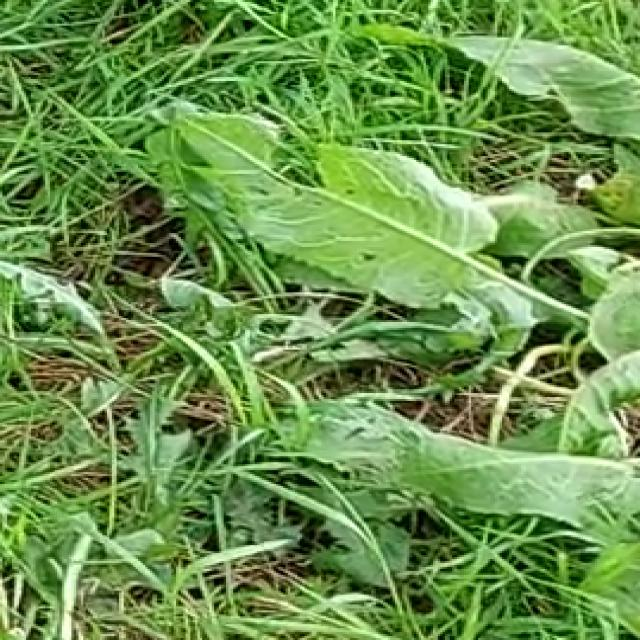organic waste: (178, 59, 640, 640)
